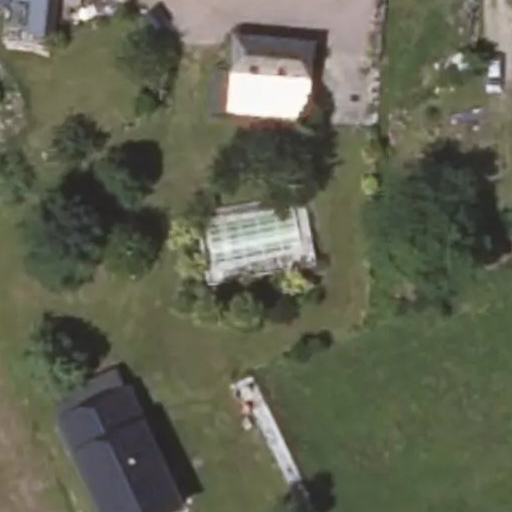pool: (203, 223, 310, 260)
